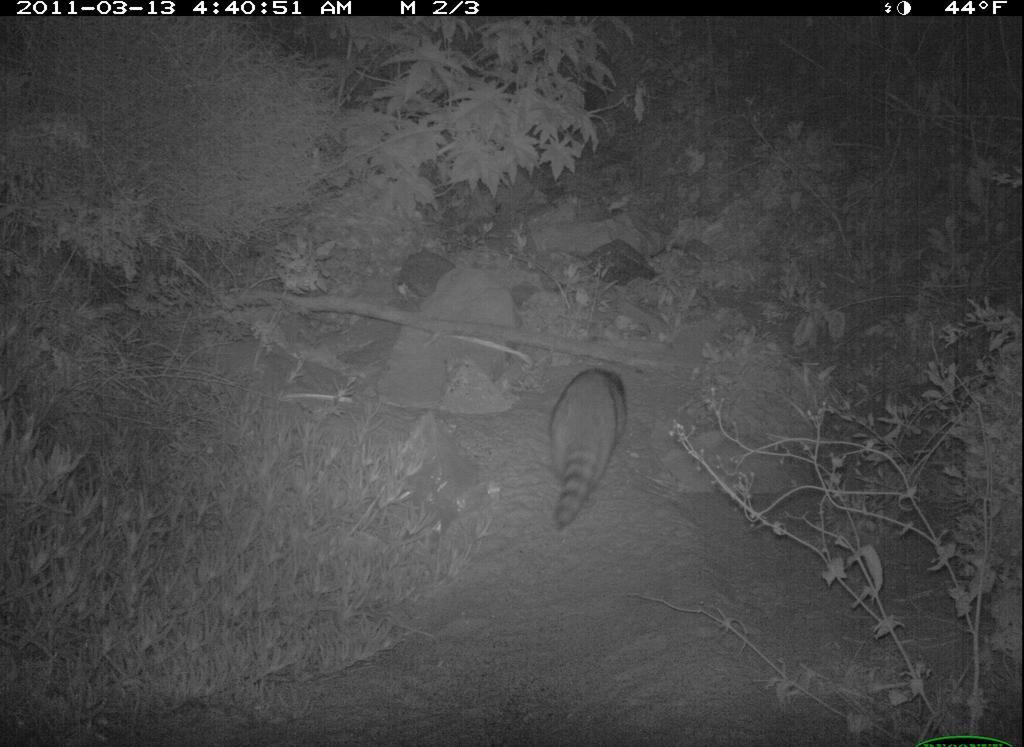raccoon: (528, 367, 641, 534)
